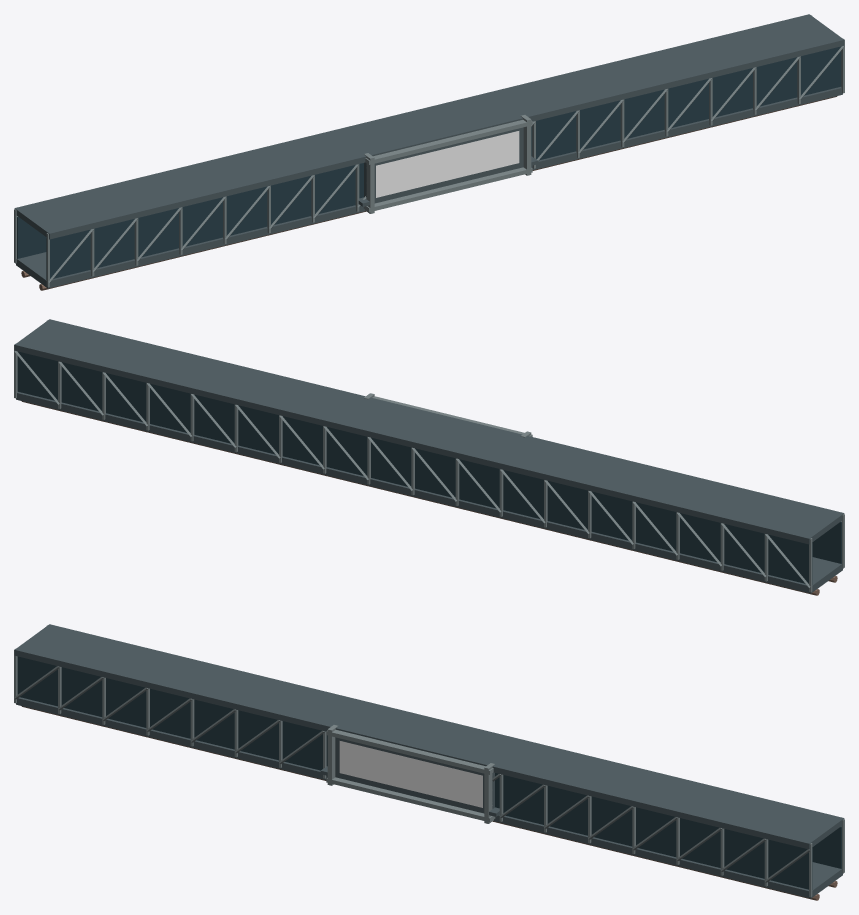
Rendered from skybridge.glb.
3 renders of one model, top to bottom at view 1: azimuth 30°, elevation 25°; view 2: azimuth 150°, elevation 25°; view 3: azimuth 330°, elevation 25°, orthographic.
Parts seen in each view (by area): view 1: skybridge-Armor, skybridge-Glass, skybridge-Edge, skybridge-AdStrip, skybridge-Copper; view 2: skybridge-Armor, skybridge-Glass, skybridge-Edge, skybridge-Copper; view 3: skybridge-Armor, skybridge-Glass, skybridge-Edge, skybridge-AdStrip, skybridge-Copper.
Boxes of the visible parts, left/top/right/bottom form: skybridge-Armor: left=14, top=14, right=844, bottom=288; skybridge-Glass: left=17, top=46, right=841, bottom=279; skybridge-Edge: left=14, top=15, right=844, bottom=287; skybridge-AdStrip: left=376, top=131, right=519, bottom=197; skybridge-Copper: left=21, top=96, right=837, bottom=290; skybridge-Armor: left=14, top=319, right=844, bottom=593; skybridge-Glass: left=17, top=351, right=841, bottom=584; skybridge-Edge: left=14, top=320, right=844, bottom=592; skybridge-Copper: left=21, top=401, right=837, bottom=595; skybridge-Armor: left=14, top=624, right=844, bottom=898; skybridge-Glass: left=17, top=656, right=841, bottom=889; skybridge-Edge: left=14, top=625, right=844, bottom=897; skybridge-AdStrip: left=339, top=741, right=482, bottom=807; skybridge-Copper: left=21, top=706, right=837, bottom=900.
Size of the model in its own units: 72.18 by 5.53 by 6.12.
